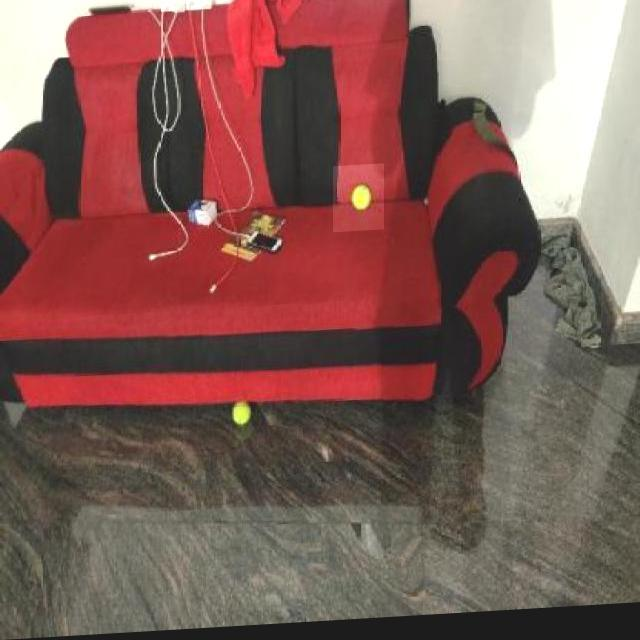-: (333, 168, 384, 236), (227, 374, 258, 451)
